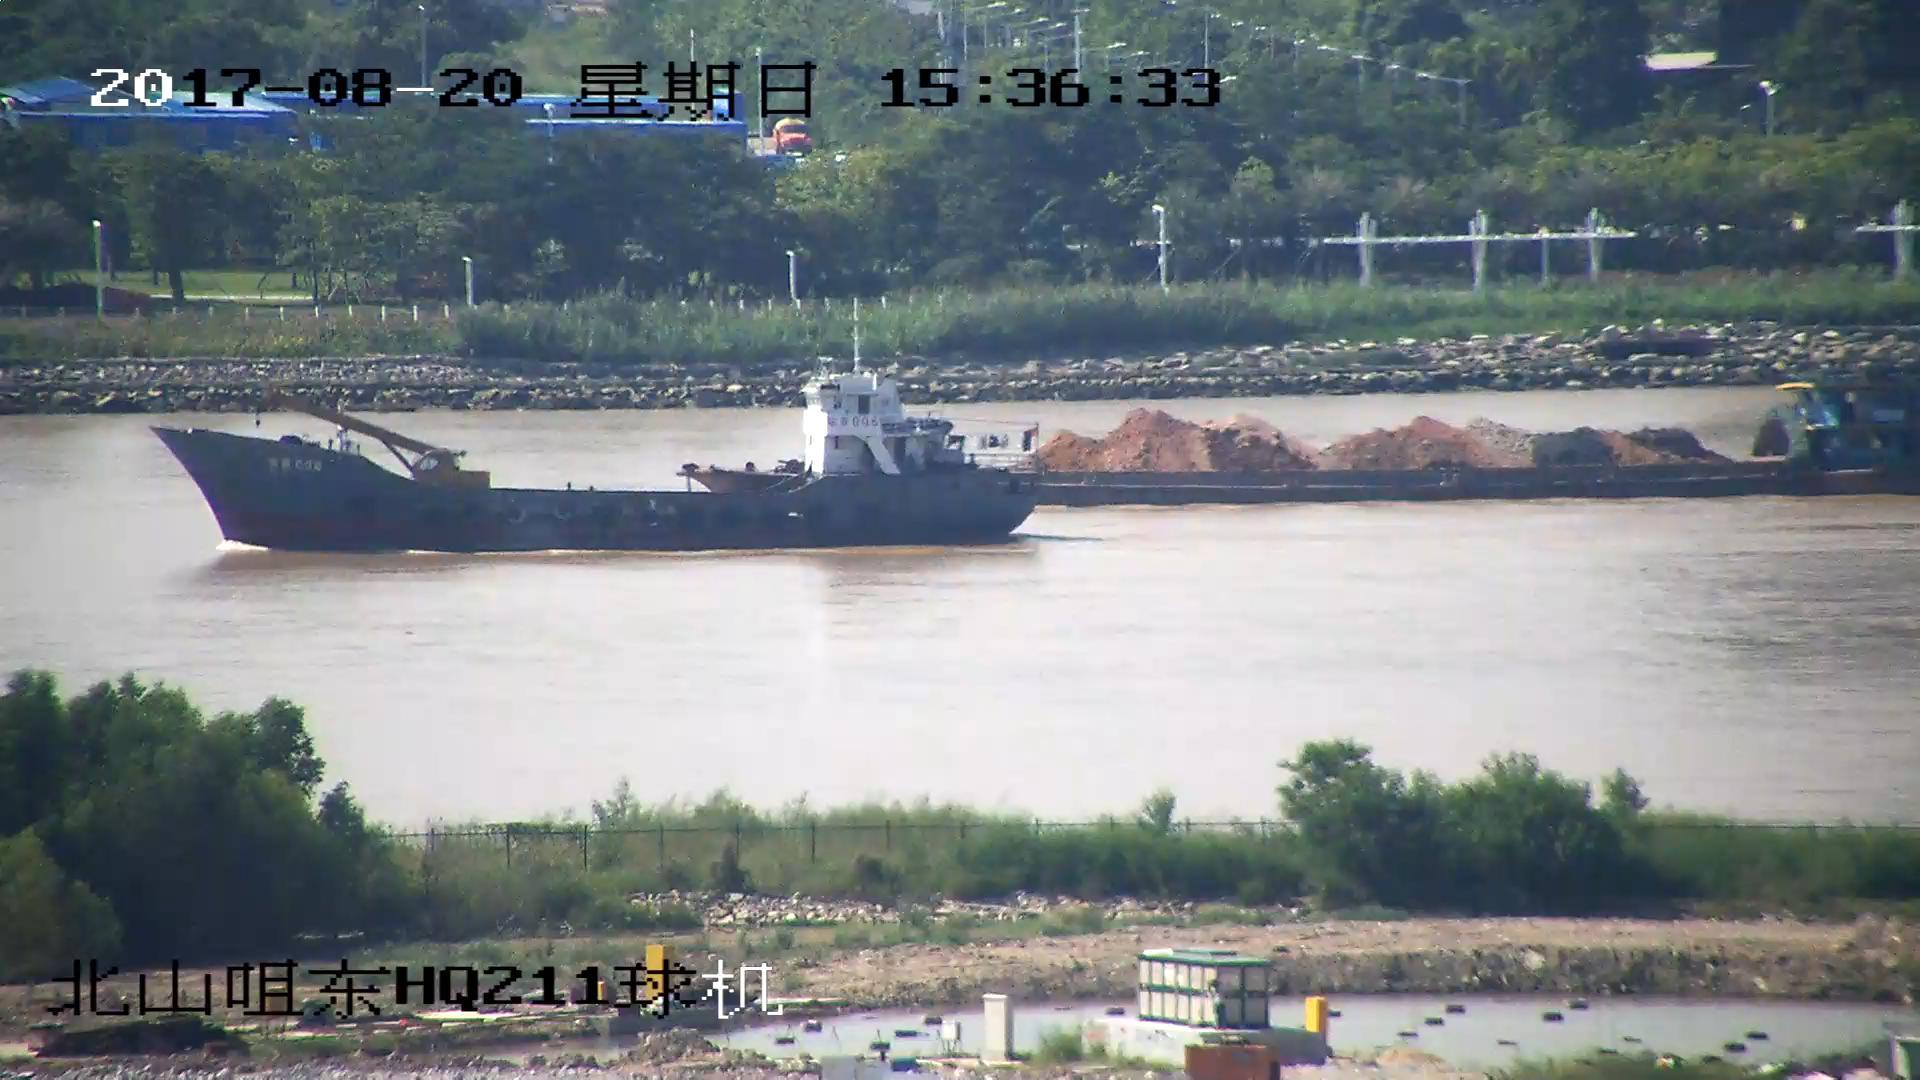Ship: (152, 311, 1036, 559), (679, 364, 1920, 502)
